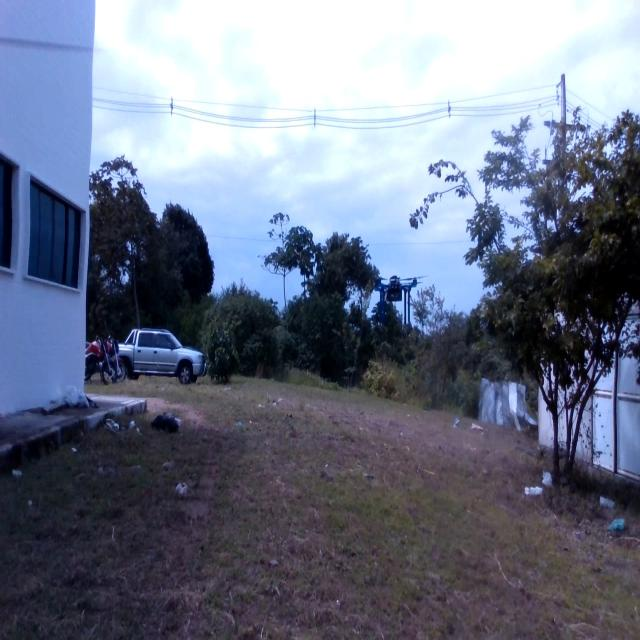-uav-: (367, 267, 431, 333)
